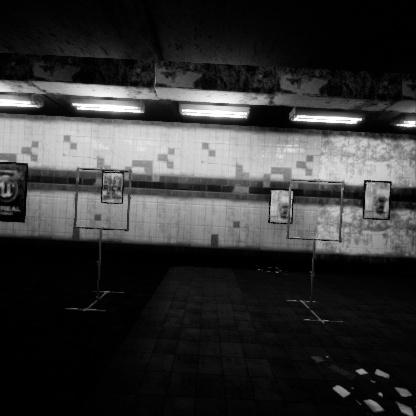gate: (74, 184, 136, 249), (287, 173, 349, 238)
